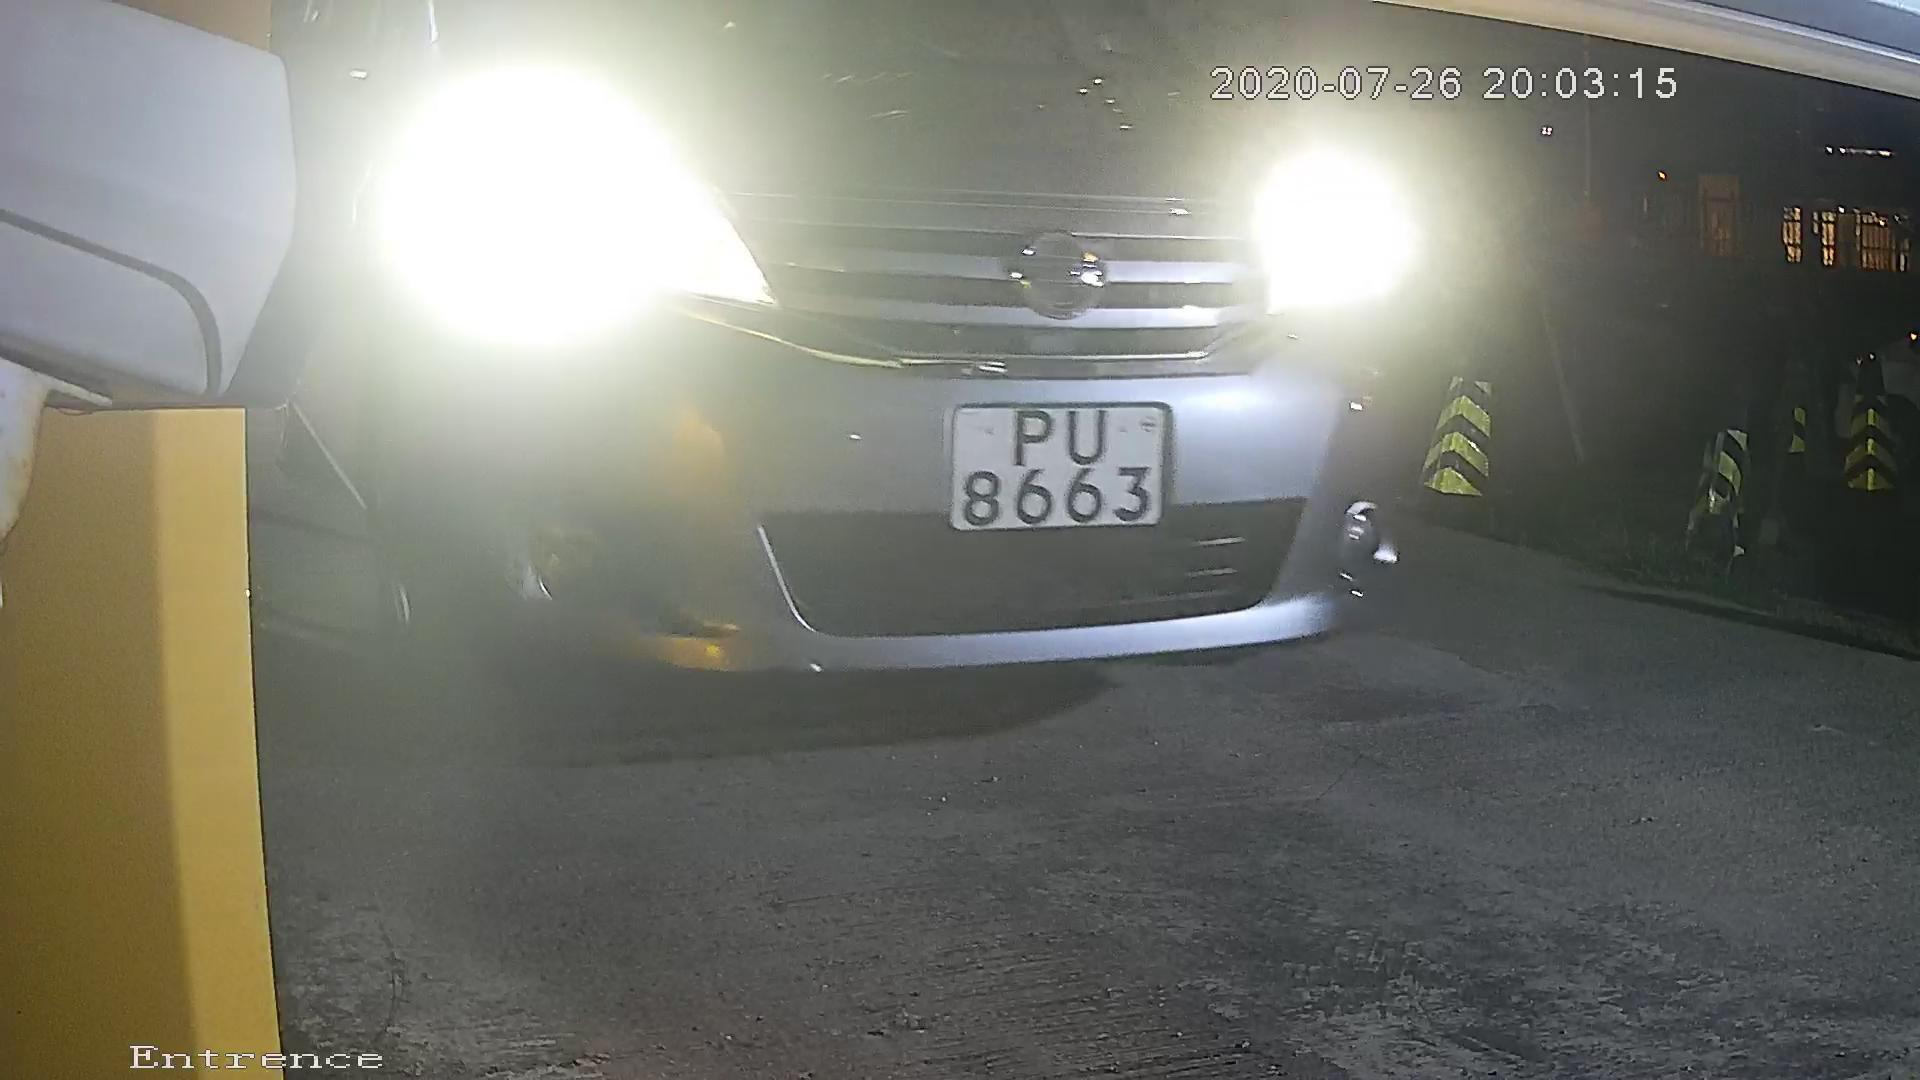Car: (9, 44, 1741, 835)
License Plate: (909, 372, 1209, 560)
